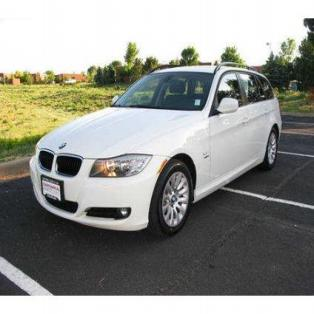Auto: (30, 65, 282, 237)
